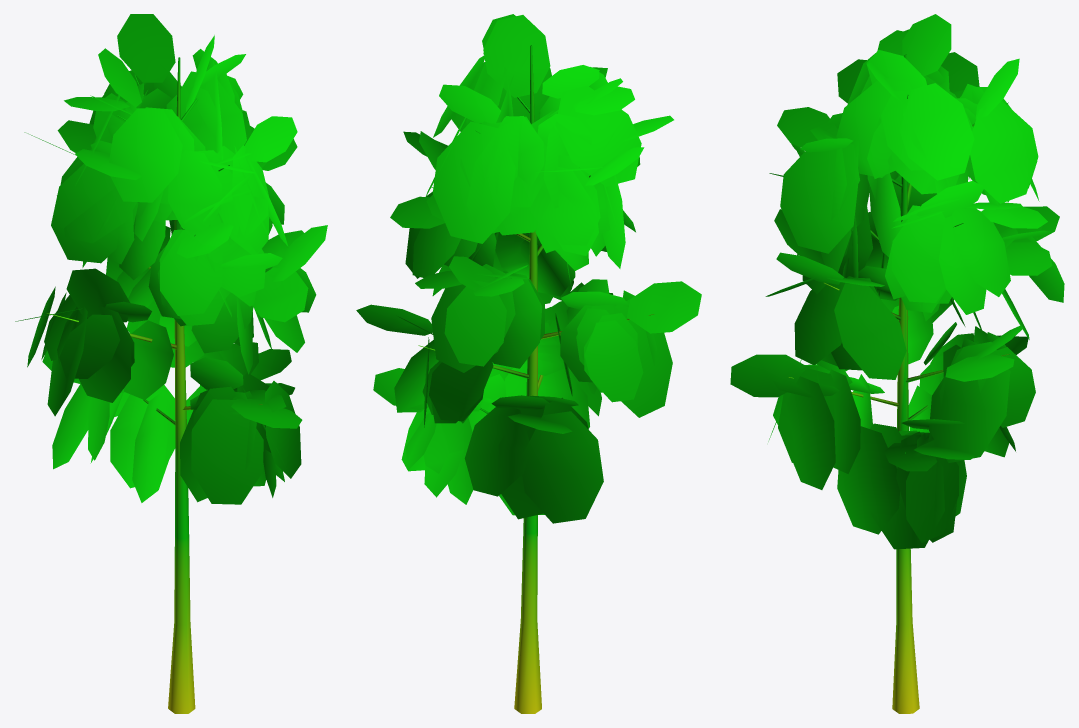
Rendered from tree_birch_a_lod1.glb.
The picture shows the model from 3 angles, left to right: view 1: azimuth 30°, elevation 25°; view 2: azimuth 150°, elevation 25°; view 3: azimuth 270°, elevation 25°; orthographic projection.
Visible parts, largest first — view 1: tree_birch_a_lod1.1, tree_birch_a_lod1.0; view 2: tree_birch_a_lod1.1, tree_birch_a_lod1.0; view 3: tree_birch_a_lod1.1, tree_birch_a_lod1.0.
Part boxes in pixels (x1,y1,x2,y2): tree_birch_a_lod1.1: (15, 14, 327, 504); tree_birch_a_lod1.0: (46, 57, 262, 713); tree_birch_a_lod1.1: (356, 14, 701, 523); tree_birch_a_lod1.0: (418, 45, 654, 713); tree_birch_a_lod1.1: (730, 14, 1064, 549); tree_birch_a_lod1.0: (788, 54, 1044, 713).
Bounding box in the file's own units: 6.57 × 14.17 × 6.42.
